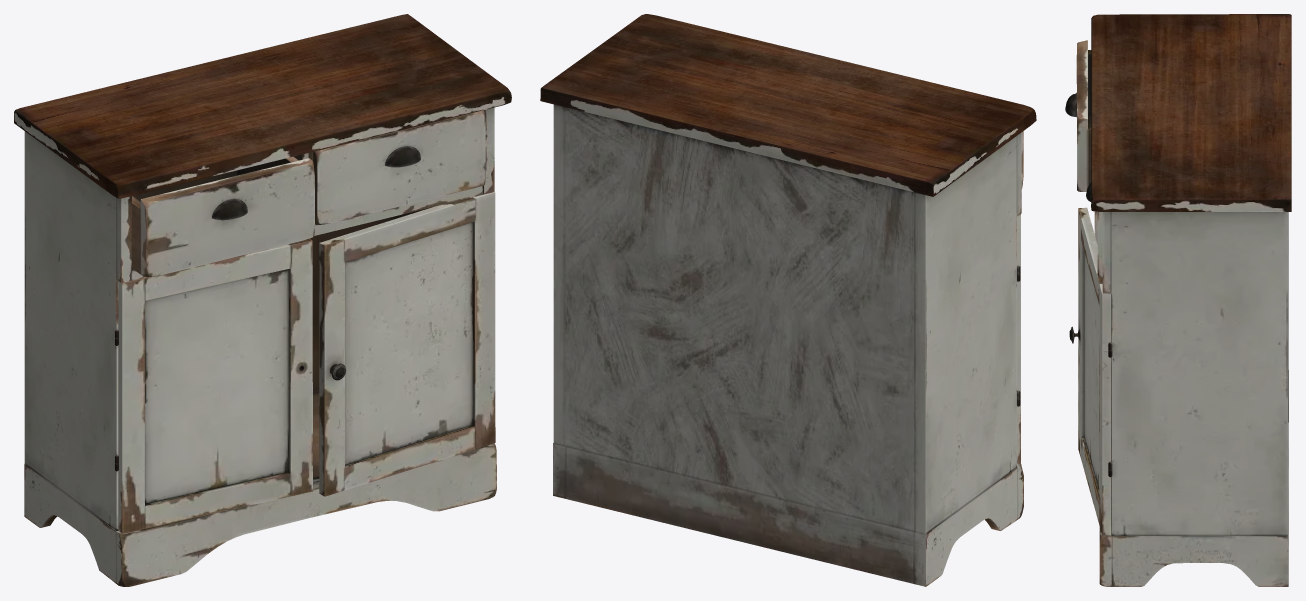
Rendered from painted_wooden_cabinet.glb.
The picture shows the model from 3 angles, left to right: view 1: azimuth 30°, elevation 25°; view 2: azimuth 150°, elevation 25°; view 3: azimuth 270°, elevation 25°; orthographic projection. The views are drawn at different scales.
Visible parts, largest first — view 1: painted_wooden_cabinet; view 2: painted_wooden_cabinet; view 3: painted_wooden_cabinet.
Boxes of the visible parts, <box> form: painted_wooden_cabinet: <box>14,14,511,586</box>; painted_wooden_cabinet: <box>540,14,1036,586</box>; painted_wooden_cabinet: <box>1065,14,1291,586</box>.
Bounding box in the file's own units: 1.19 × 1.18 × 0.6166.
1 material, 1 textured.
